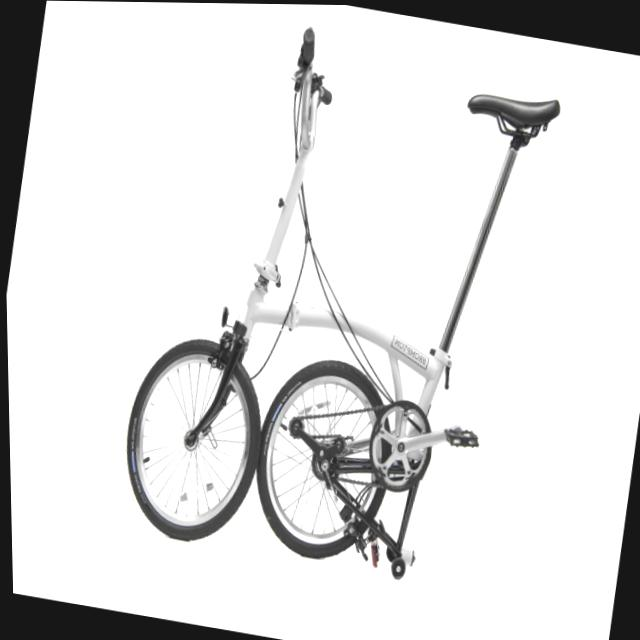folding-bike: (97, 1, 576, 600)
